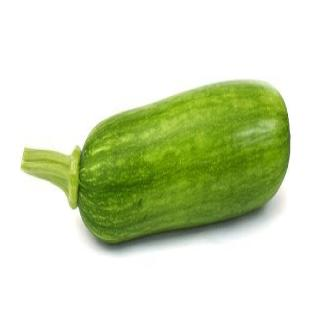Zucchini: (22, 82, 289, 243)
